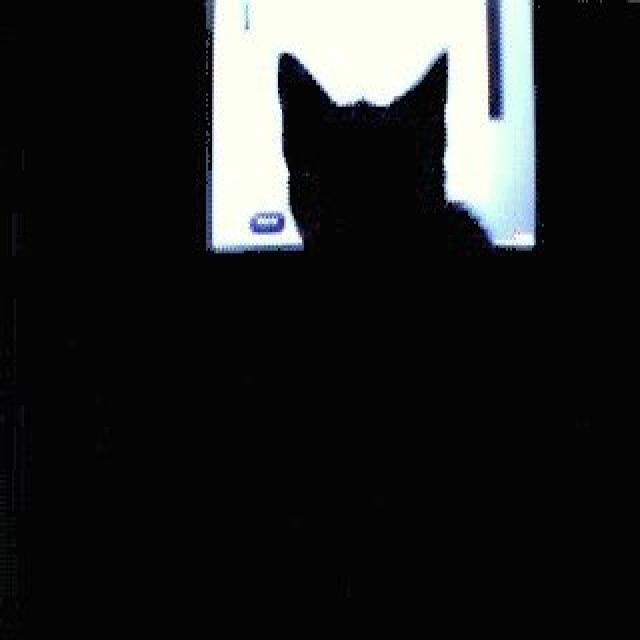Cat: (268, 47, 529, 454)
